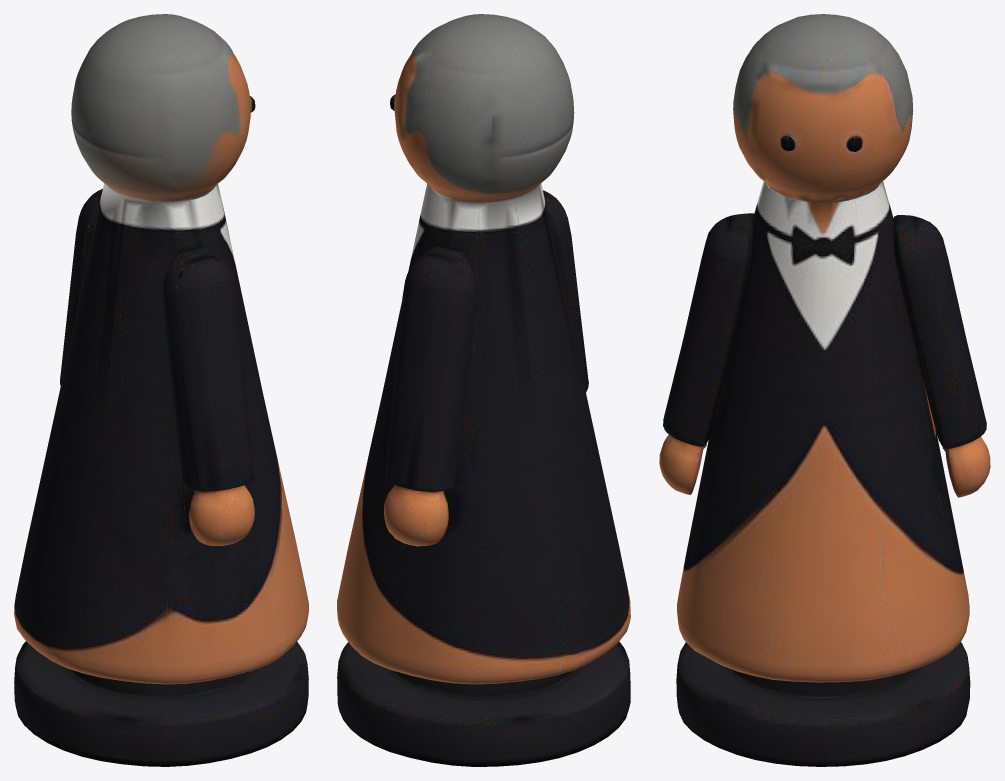
Rendered from person_butler.glb.
3 renders of one model, left to right at view 1: azimuth 30°, elevation 25°; view 2: azimuth 150°, elevation 25°; view 3: azimuth 270°, elevation 25°, orthographic.
Visible parts, largest first — view 1: Model; view 2: Model; view 3: Model.
Part boxes in pixels (<box>): Model: <box>14,14,308,766</box>; Model: <box>337,14,630,766</box>; Model: <box>659,14,990,766</box>.
Bounding box in the file's own units: 0.3901 × 0.9995 × 0.439.
Materials: 1 (1 with a texture image).
